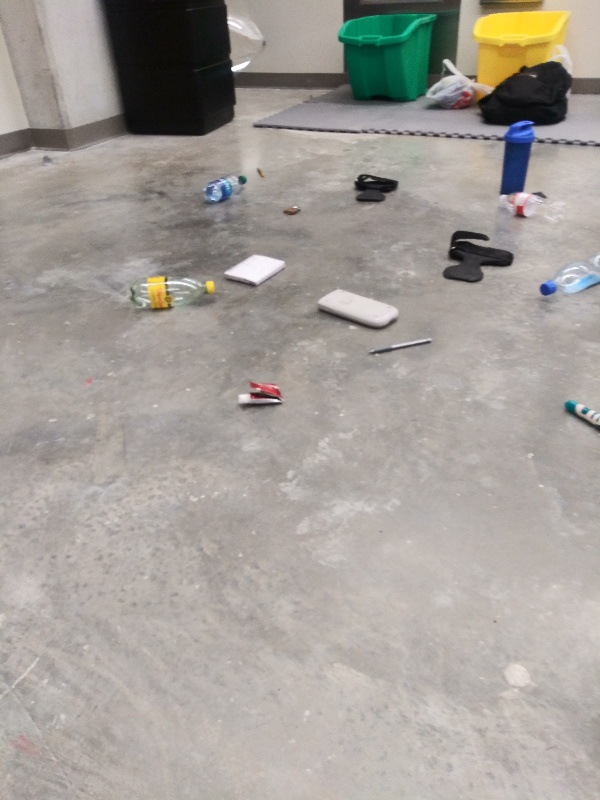bottle: (119, 269, 217, 319), (487, 181, 563, 230), (535, 248, 600, 304), (197, 172, 254, 206)
